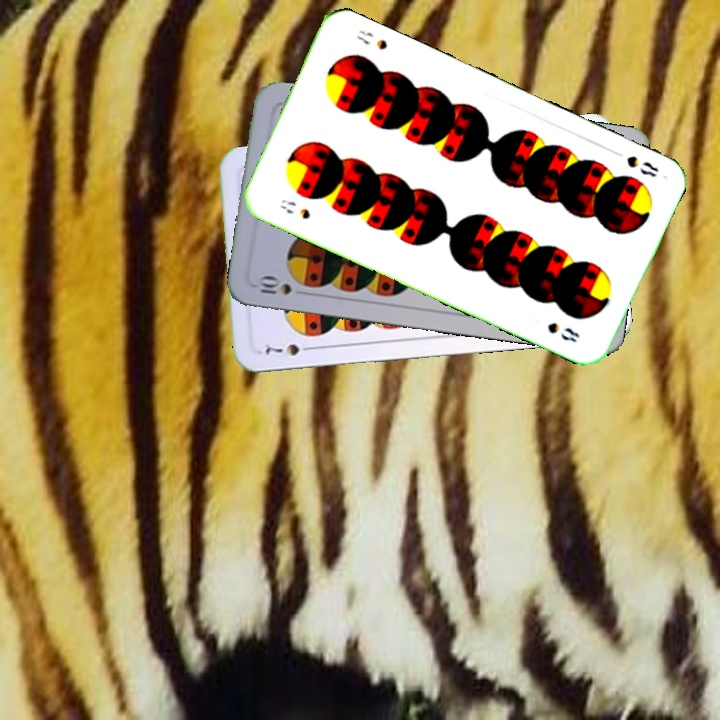S10: (252, 272, 310, 298)
S7: (261, 339, 317, 359)
S8: (622, 151, 661, 180), (276, 195, 313, 222)
